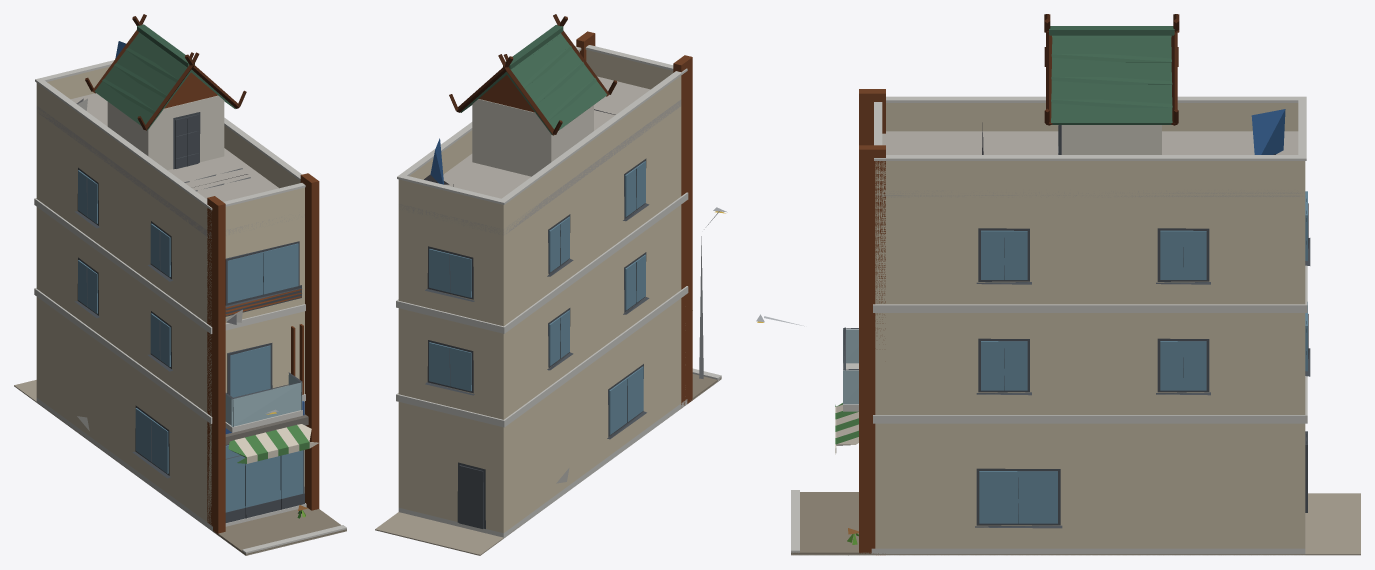
File: bay1_one.glb
3 views of the same model, side by side, from view 1: azimuth 30°, elevation 25°; view 2: azimuth 150°, elevation 25°; view 3: azimuth 270°, elevation 25° (orthographic). The views are drawn at different scales.
Visible parts, largest first — view 1: body; view 2: body; view 3: body.
Boxes of the visible parts, left/top/right/bottom form: body: left=14, top=14, right=346, bottom=555; body: left=375, top=14, right=727, bottom=555; body: left=756, top=14, right=1360, bottom=555.
Size of the model in its own units: 4.71 by 15.93 by 16.88.
